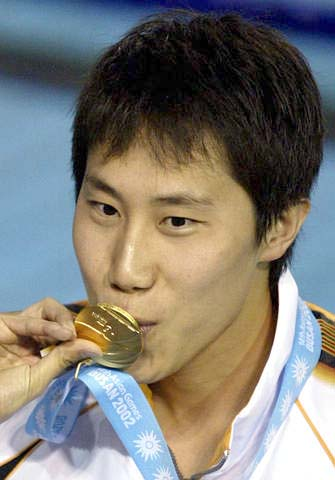face: (75, 98, 247, 379)
